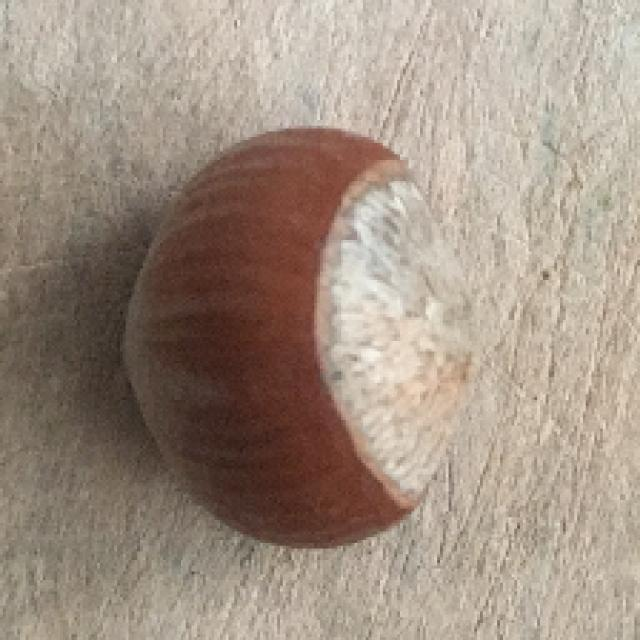qualityHazelnut: (116, 132, 488, 550)
